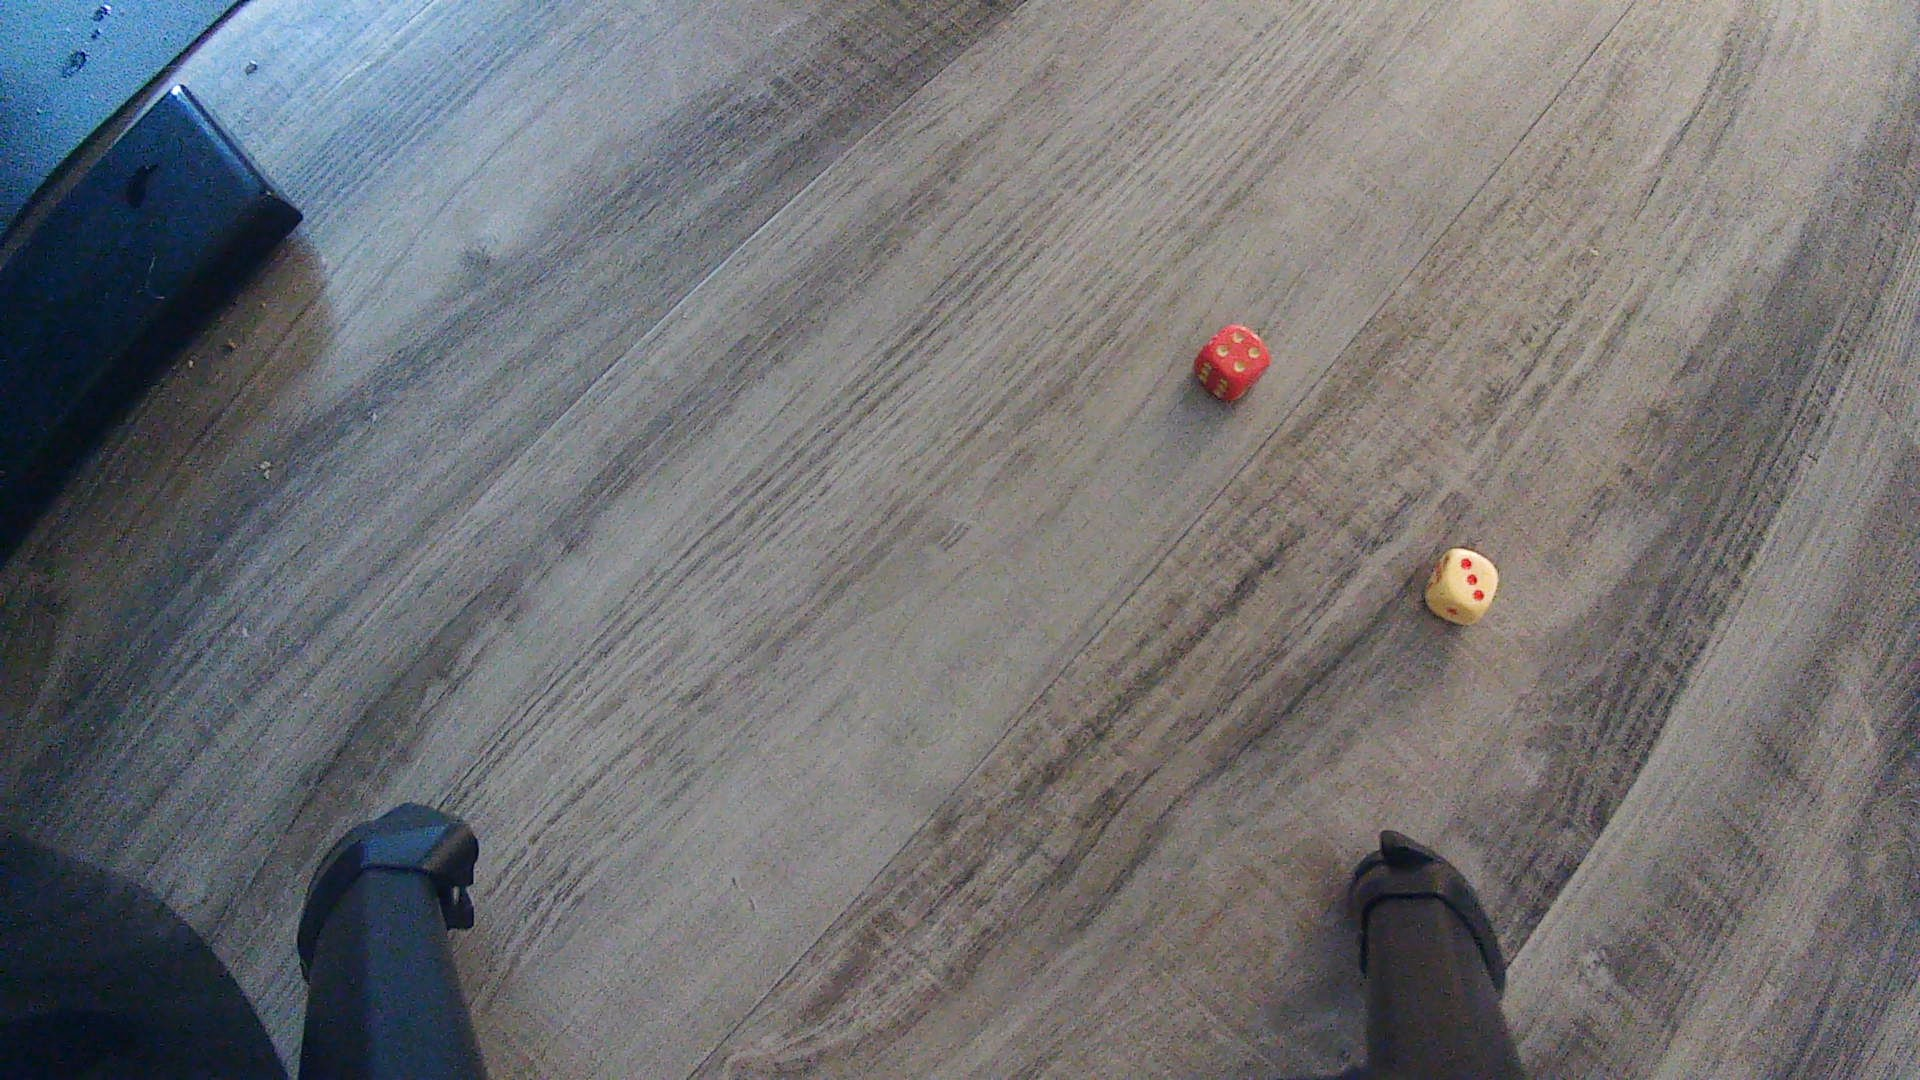die: (1193, 322, 1274, 404), (1425, 547, 1501, 625)
